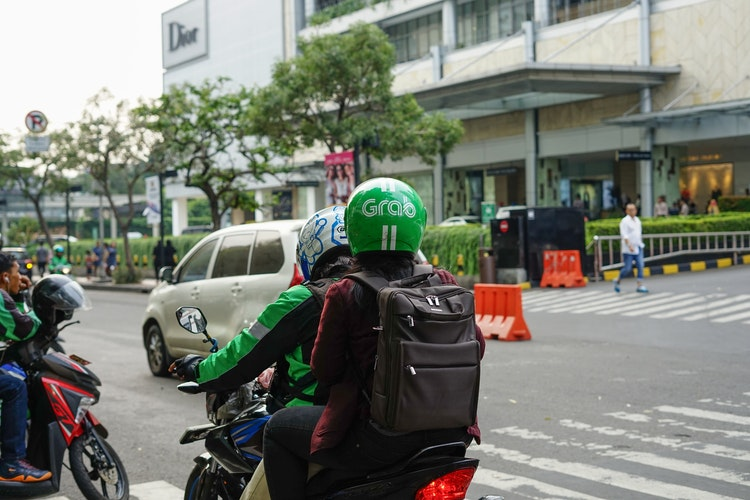helmet: (343, 184, 429, 255), (282, 207, 362, 264)
